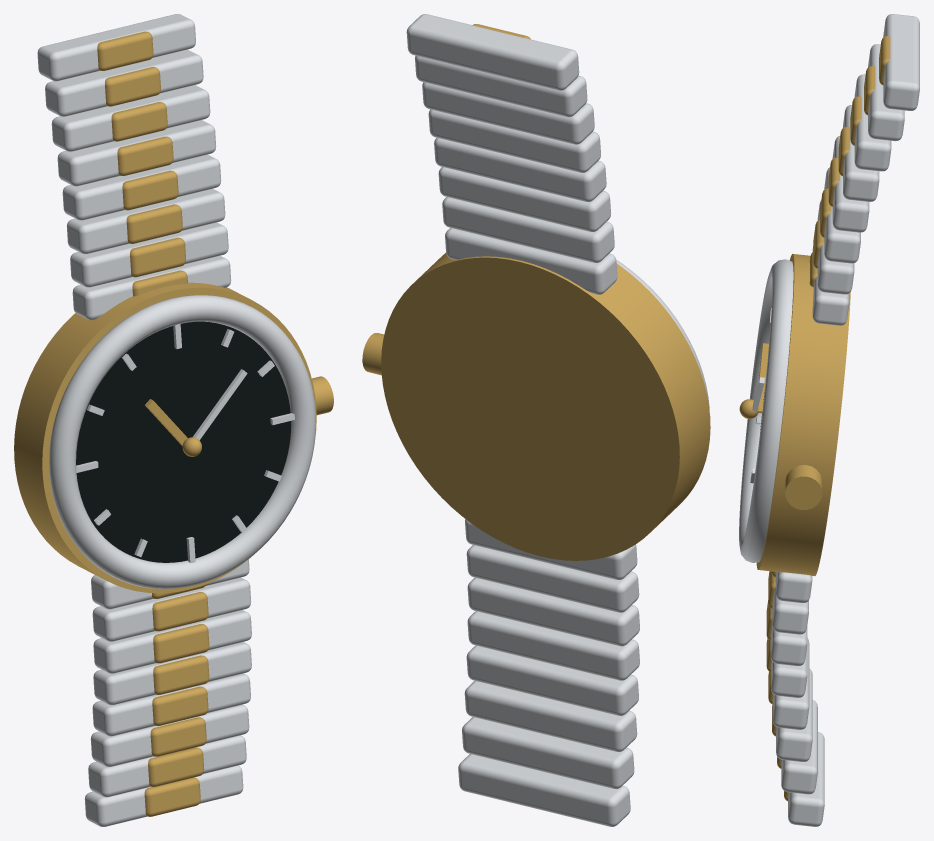
File: concept-watch.glb
3 renders of one model, left to right at view 1: azimuth 30°, elevation 25°; view 2: azimuth 150°, elevation 25°; view 3: azimuth 270°, elevation 25°, orthographic. The views are drawn at different scales.
Visible parts, largest first — view 1: MERGE watches - interpreted CONCEPT; view 2: MERGE watches - interpreted CONCEPT; view 3: MERGE watches - interpreted CONCEPT.
Boxes of the visible parts, left/top/right/bottom form: MERGE watches - interpreted CONCEPT: left=14, top=14, right=333, bottom=826; MERGE watches - interpreted CONCEPT: left=362, top=14, right=710, bottom=826; MERGE watches - interpreted CONCEPT: left=739, top=14, right=919, bottom=826.
Size of the model in its own units: 1.38 by 3.31 by 0.7278.
